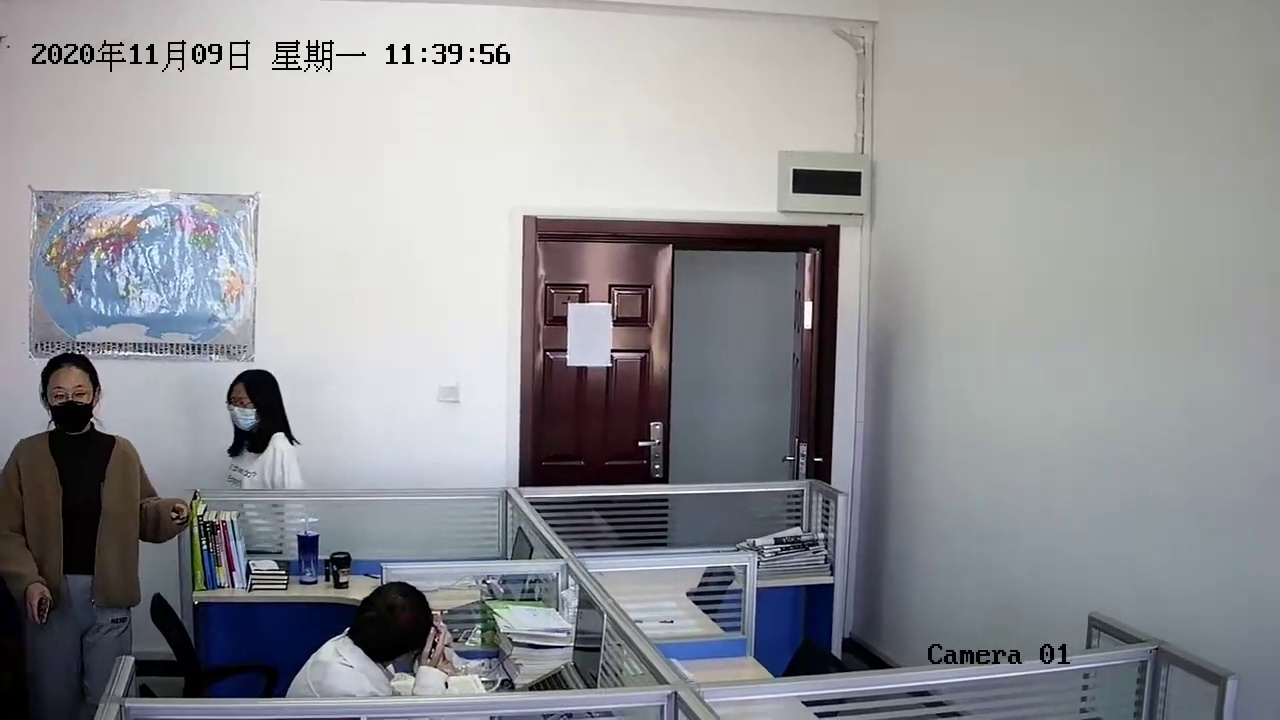mask: (40, 354, 102, 436), (226, 373, 276, 442)
